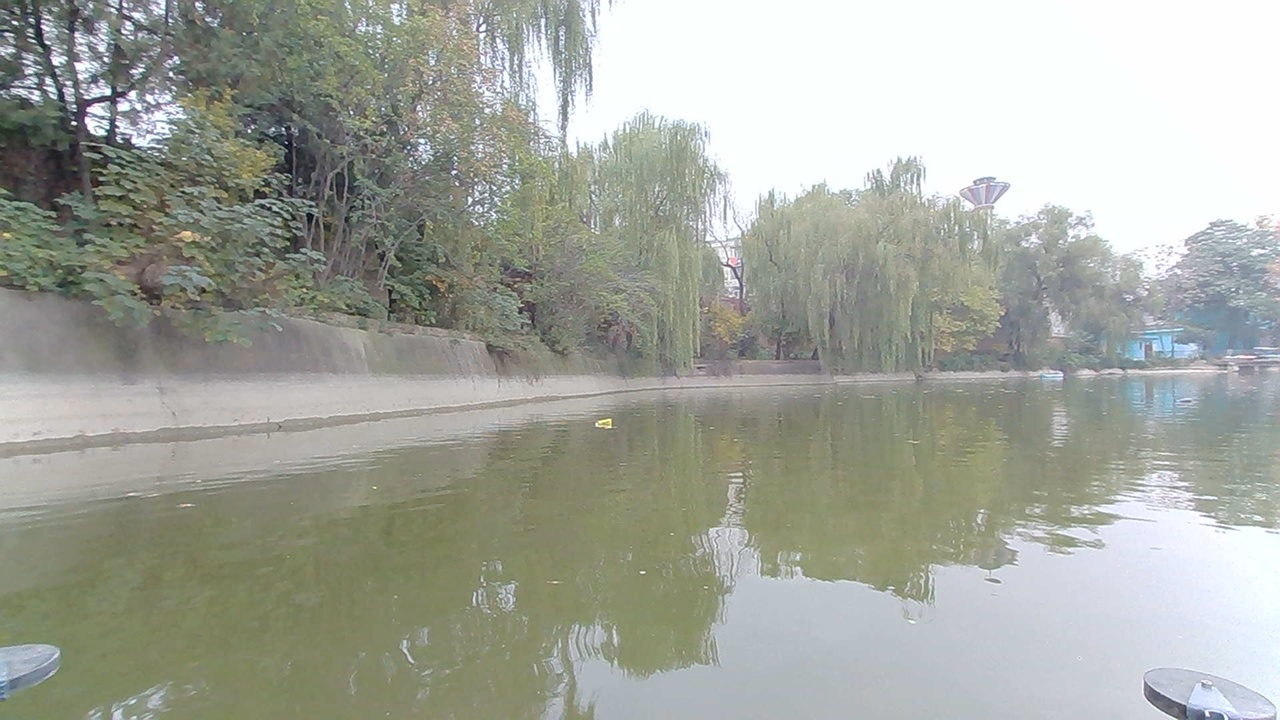bottle: (590, 413, 624, 436), (1174, 389, 1203, 409)
